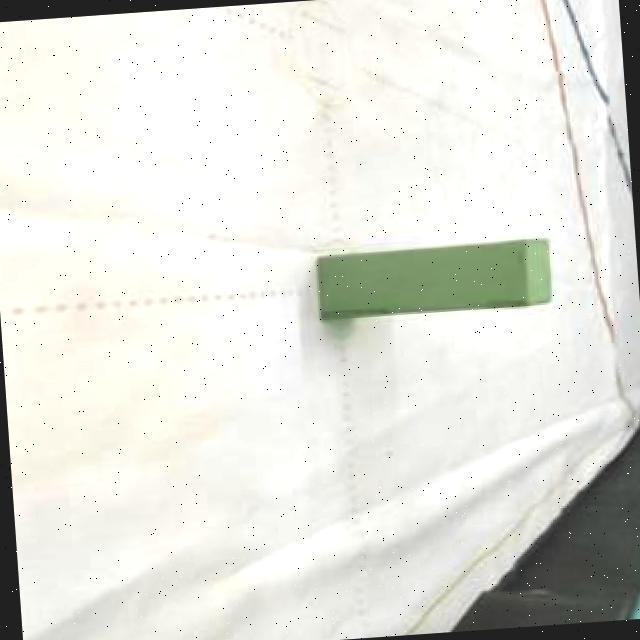greenbox: (314, 232, 555, 326)
